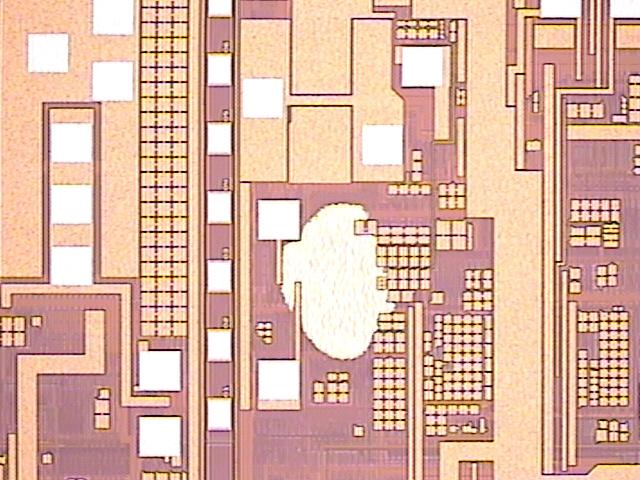BLOCK ETCH: (271, 195, 398, 364)
